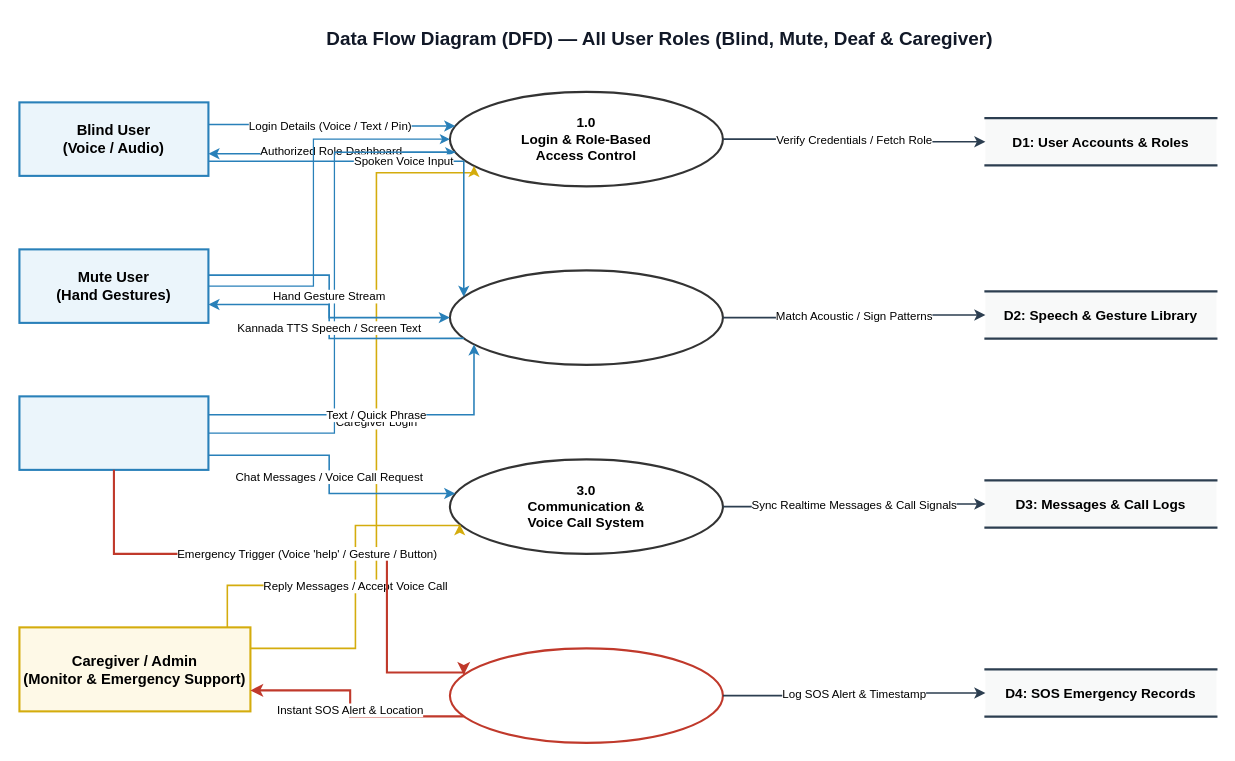
Image size: 1235x761. Some labels were removed from this diagram. The shapes that lost their labels are listed below. From the top down, each one's centre as x and y in pixels, then its label:
point 585,317: 2.0 Assistive Interaction Engine (Voice / Gesture / Text)
point 113,432: Deaf User (Text / Visual)
point 585,695: 4.0 Emergency SOS Alert Management
